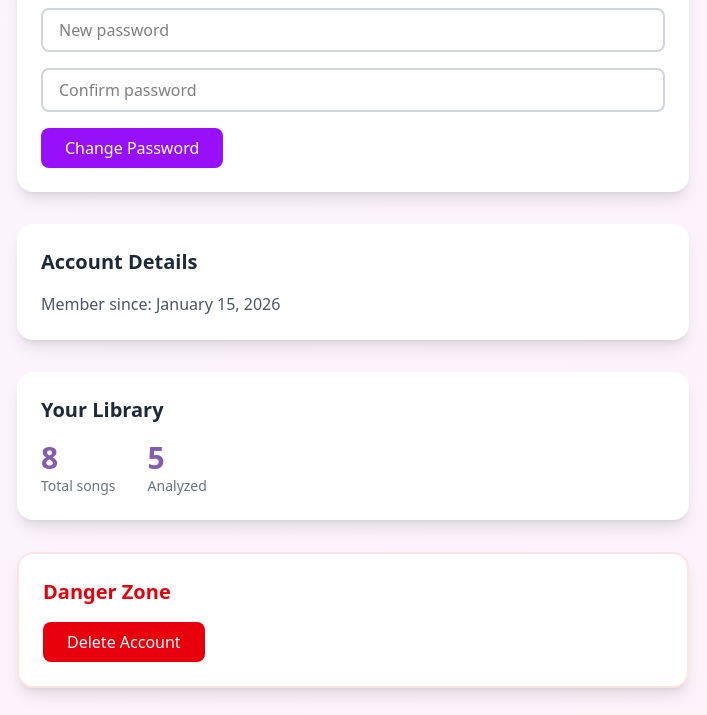
Scenario: DashboardPage › displays a fallback error when account deletion fails unexpectedly
The width and height of the screenshot is (707, 715).
(page scrolled)
Click the button "Delete Account" at (124, 642), box [43,622,205,662]
(page scrolled)
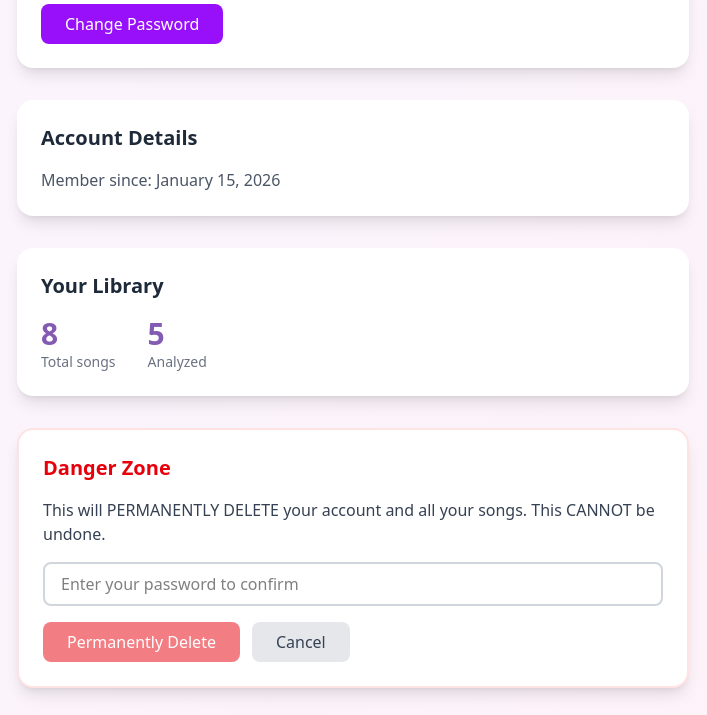
Type "Password123!" into the password field with placeholder "Enter your password to confirm" at (353, 584), box [43,562,663,606]
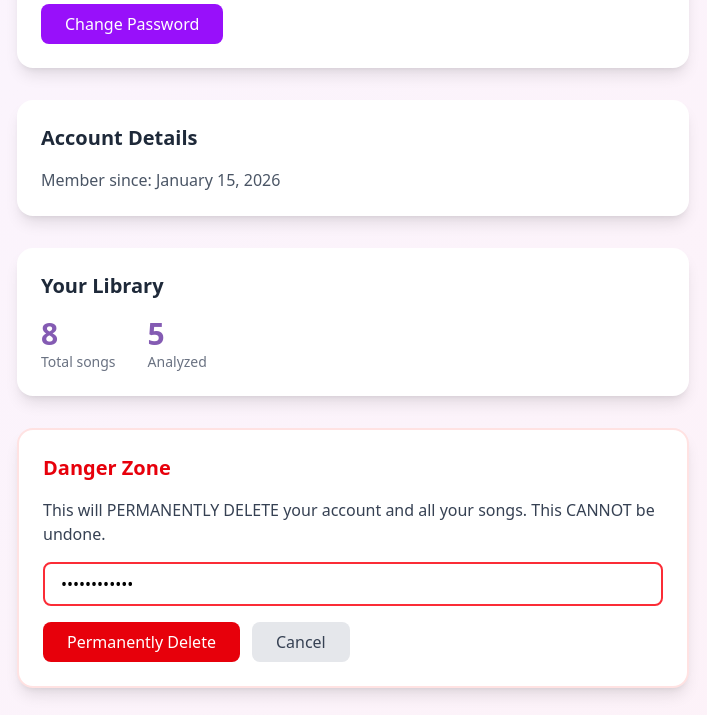
Click the button "Permanently Delete" at (141, 642), box [43,622,240,662]
(page scrolled)
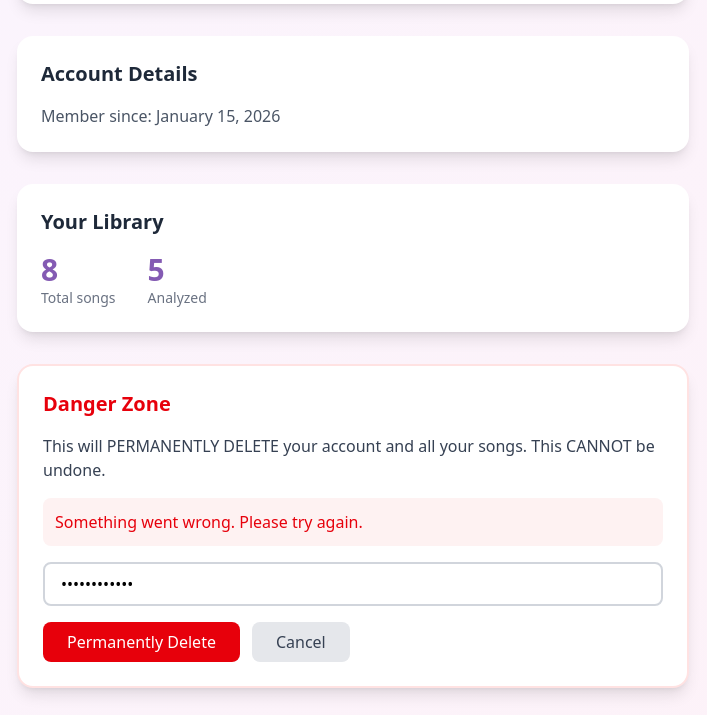
Expected: the button "Permanently Delete" is enabled, [43,622,240,662]
Expected: the text "Something went wrong. Please try again." is shown, [43,498,663,546]
